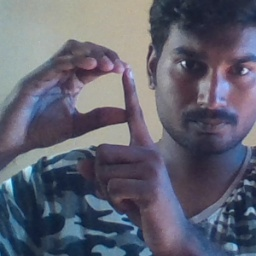P: (22, 33, 169, 206)
